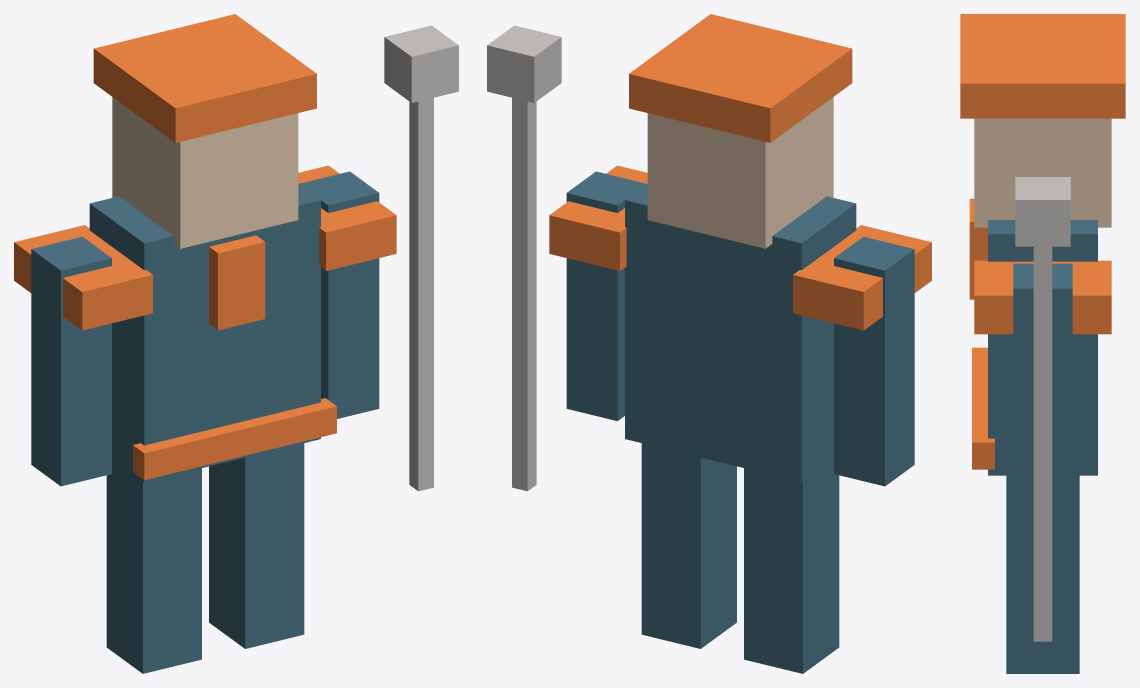
The model's file is 11_maven_gravesong_warden_near_crater.glb.
3 renders of one model, left to right at view 1: azimuth 30°, elevation 25°; view 2: azimuth 150°, elevation 25°; view 3: azimuth 270°, elevation 25°, orthographic.
Visible parts, largest first — view 1: Maven Gravesong, Warden near Crater; view 2: Maven Gravesong, Warden near Crater; view 3: Maven Gravesong, Warden near Crater.
Part boxes in pixels (x1,y1,x2,y2): Maven Gravesong, Warden near Crater: (14, 14, 458, 673); Maven Gravesong, Warden near Crater: (487, 14, 931, 673); Maven Gravesong, Warden near Crater: (960, 14, 1125, 673).
Size of the model in its own units: 1.06 by 1.47 by 0.3756.
